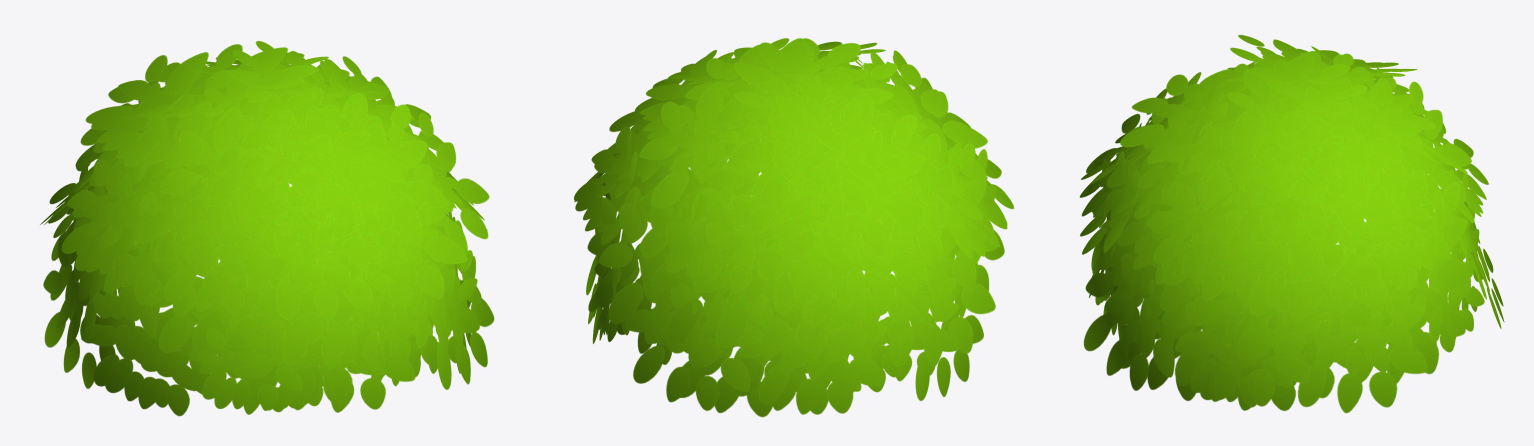
Rendered from bushes-2.glb.
The picture shows the model from 3 angles, left to right: view 1: azimuth 30°, elevation 25°; view 2: azimuth 150°, elevation 25°; view 3: azimuth 270°, elevation 25°; orthographic projection. The views are drawn at different scales.
Visible parts, largest first — view 1: Bush; view 2: Bush; view 3: Bush.
Part boxes in pixels (box(x1,y1,x2,y2)): Bush: box(40, 41, 494, 416); Bush: box(574, 38, 1013, 417); Bush: box(1080, 35, 1504, 413).
Size of the model in its own units: 1.09 by 0.6916 by 1.05.
Materials: 1 (1 with a texture image).
